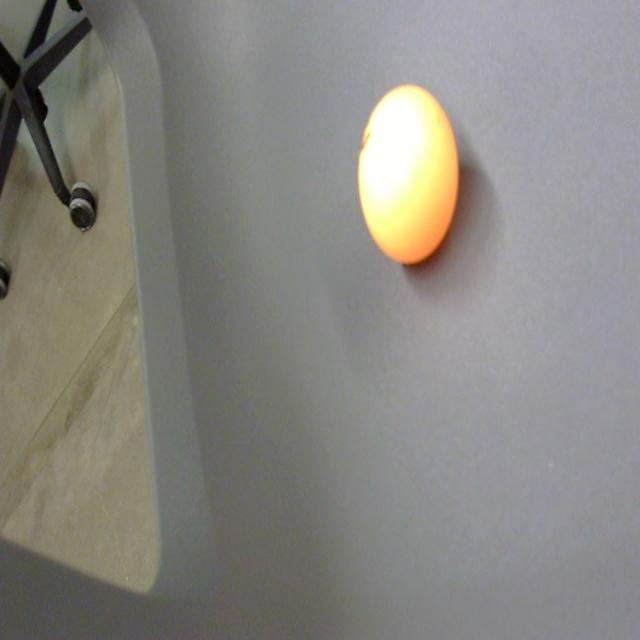ball: (353, 82, 461, 267)
